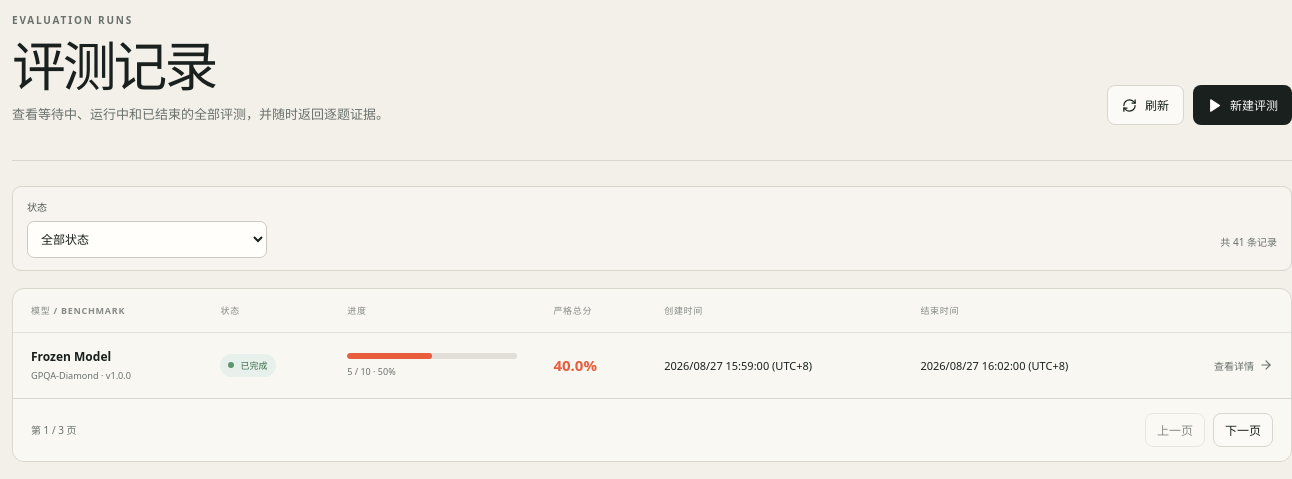
Test: RunsPage › returns to the last valid page when a filtered total shrinks
Expected: the table is shown, [13, 289, 1291, 398]
Click the button "下一页".
click(1243, 430)  # box [1213, 413, 1273, 447]
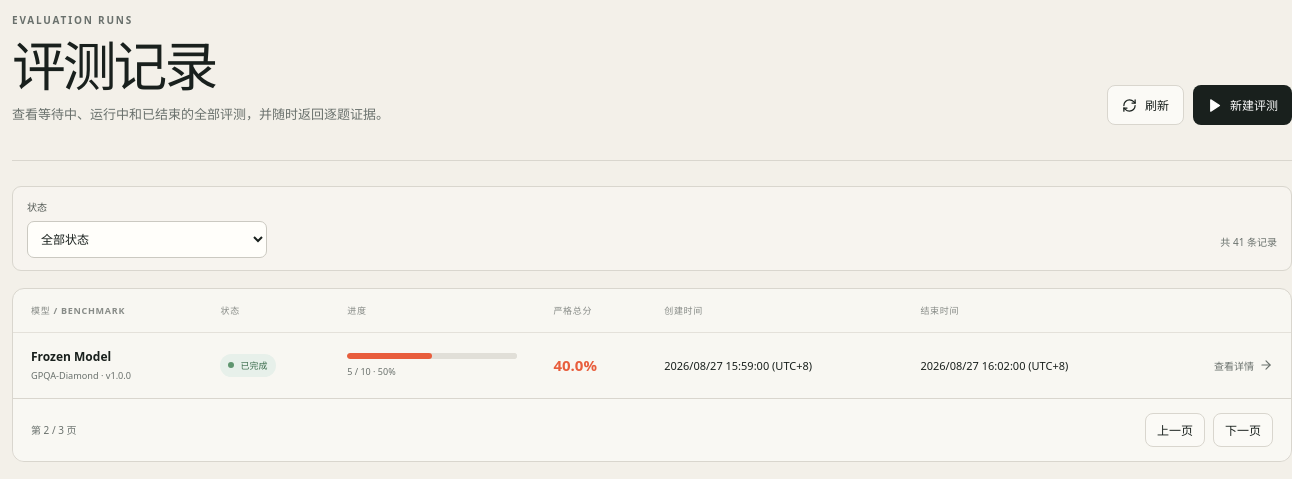
Result: the text "第 2 / 3 页" is shown at [31, 422, 77, 437]
Click the button "刷新".
click(1146, 105)  # box [1107, 85, 1184, 125]
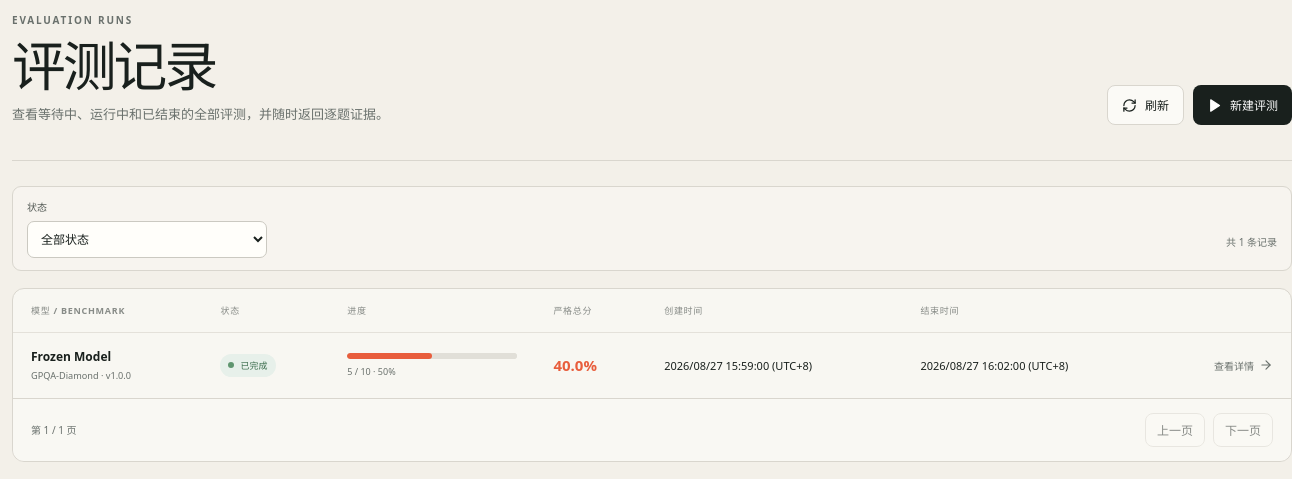
Result: the text "第 1 / 1 页" is shown at [31, 422, 77, 437]
